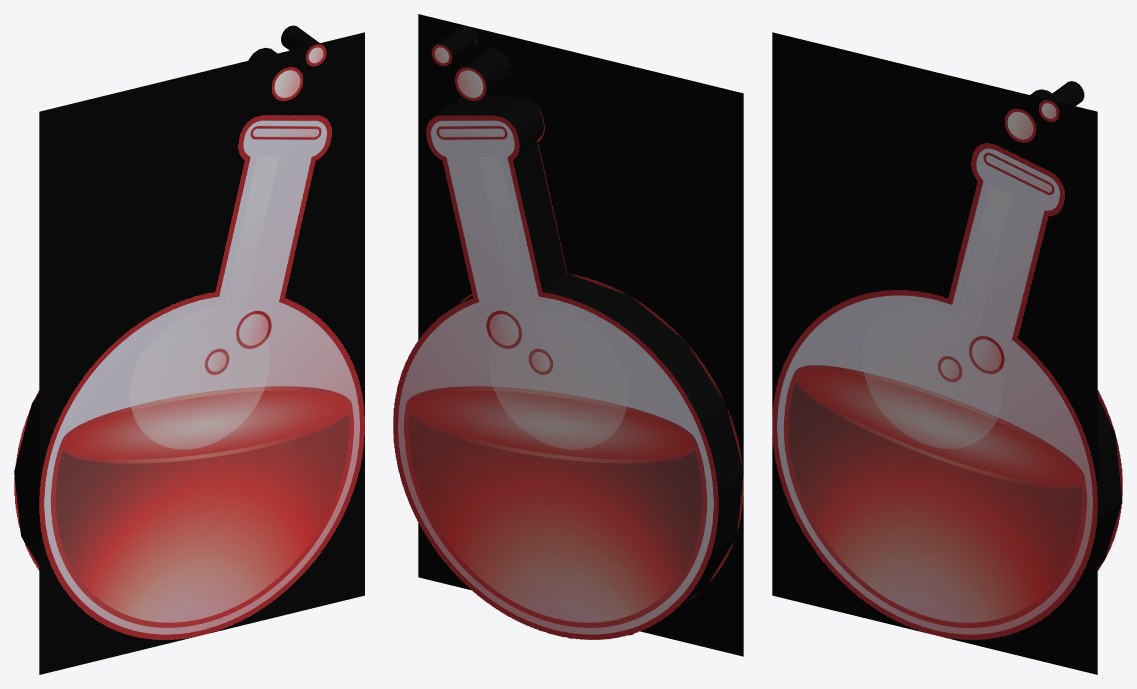
Rendered from item_h1.fbx.
3 renders of one model, left to right at view 1: azimuth 30°, elevation 25°; view 2: azimuth 150°, elevation 25°; view 3: azimuth 330°, elevation 25°, orthographic.
Parts seen in each view (by area): view 1: hp; view 2: hp; view 3: hp.
Boxes of the visible parts, box(x1,y1,x2,y2) form: hp: box(14, 25, 364, 674); hp: box(393, 14, 743, 656); hp: box(772, 32, 1122, 674).
Bounding box in the file's own units: 5.33 × 8.8 × 0.708.
Materials: 3 (2 with a texture image).
